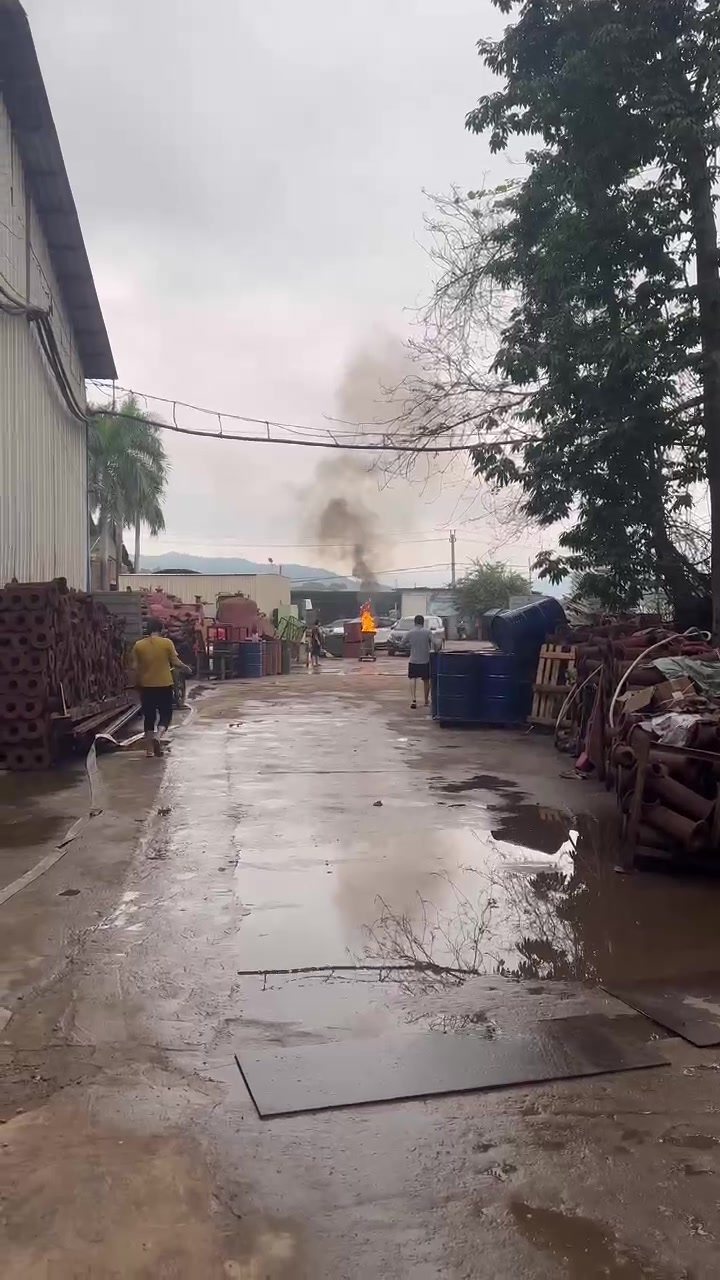fire: (361, 611, 375, 631)
